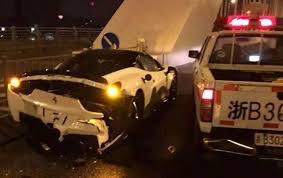rear-bumper-dent: (27, 73, 100, 119)
